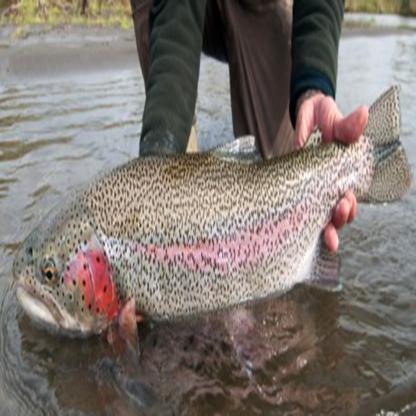fish: (11, 83, 409, 348)
